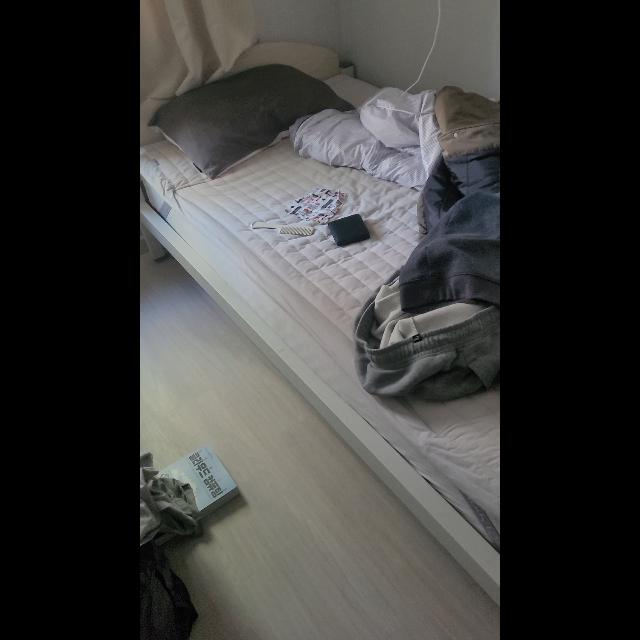COMB: (250, 220, 314, 236)
Glasses cleaning cloth: (285, 188, 347, 226)
WALLET: (328, 214, 370, 246)
